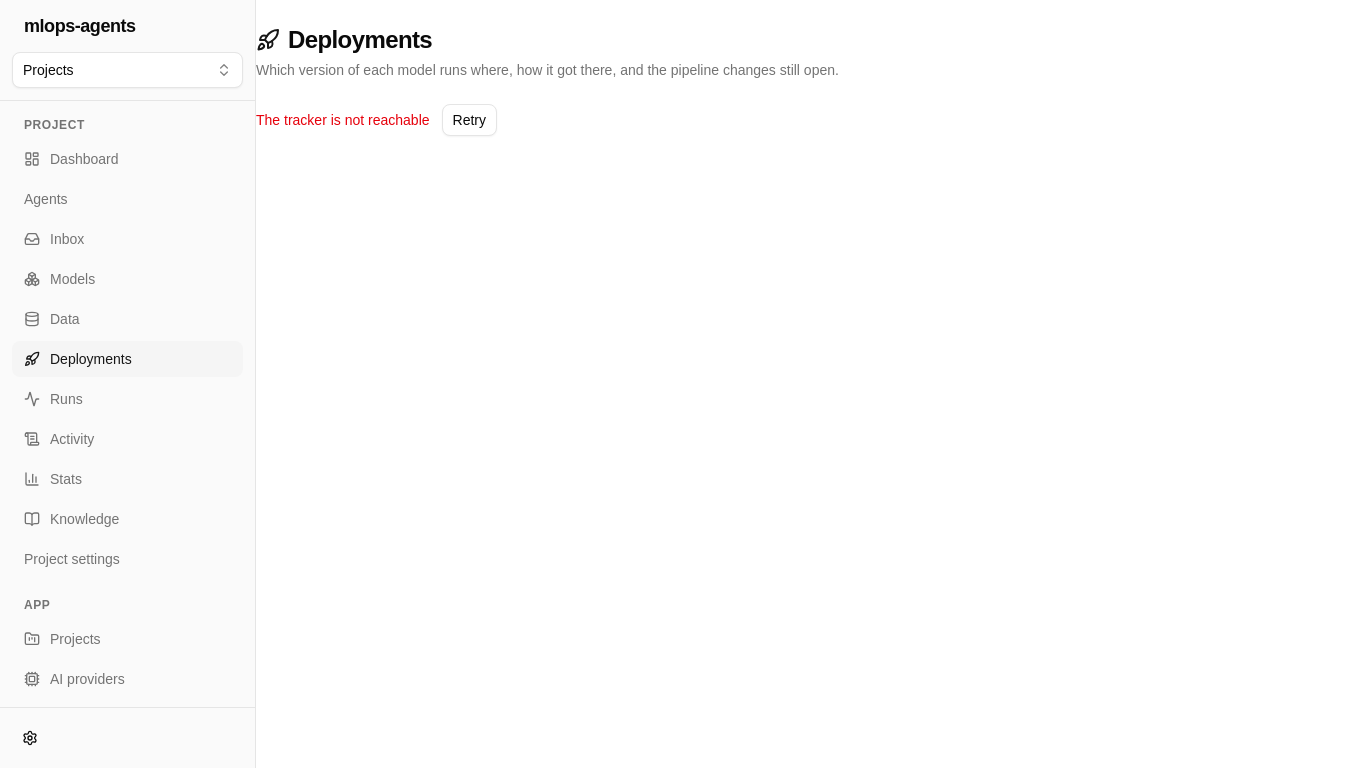
DeploymentsPage › shows the server's error and Retry loads the page
Expected: the text "The tracker is not reachable" is shown, left=256, top=110, right=430, bottom=130
Click the button "Retry" at (469, 120), box left=442, top=104, right=497, bottom=136
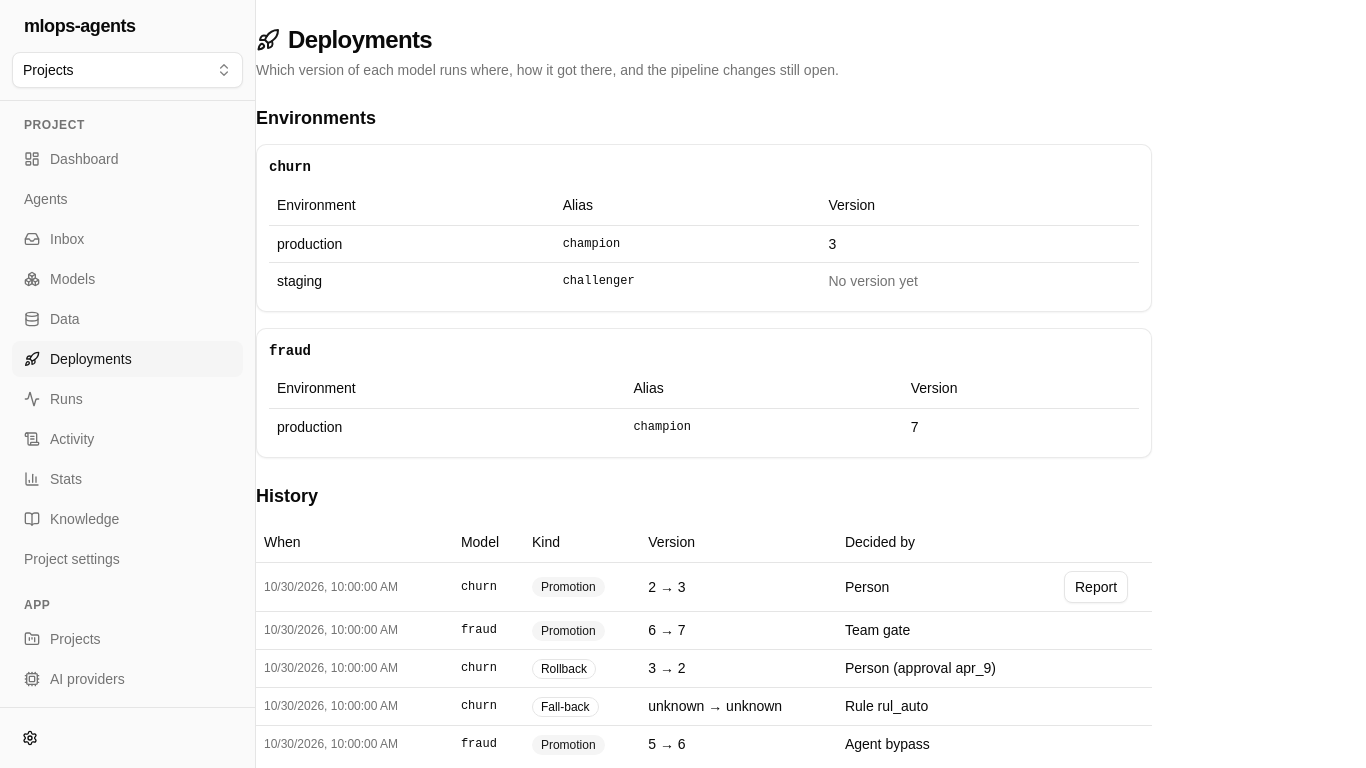
Expected: the element with test id "environments-churn" is shown, left=256, top=144, right=1152, bottom=312
